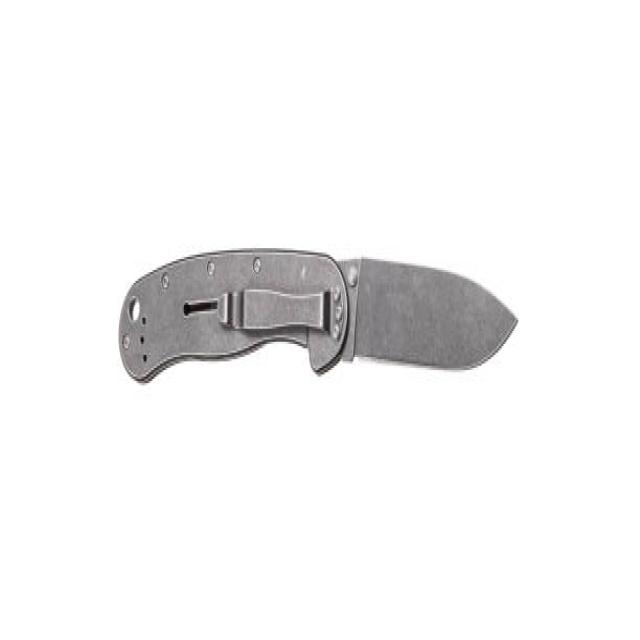knife: (114, 232, 526, 413)
